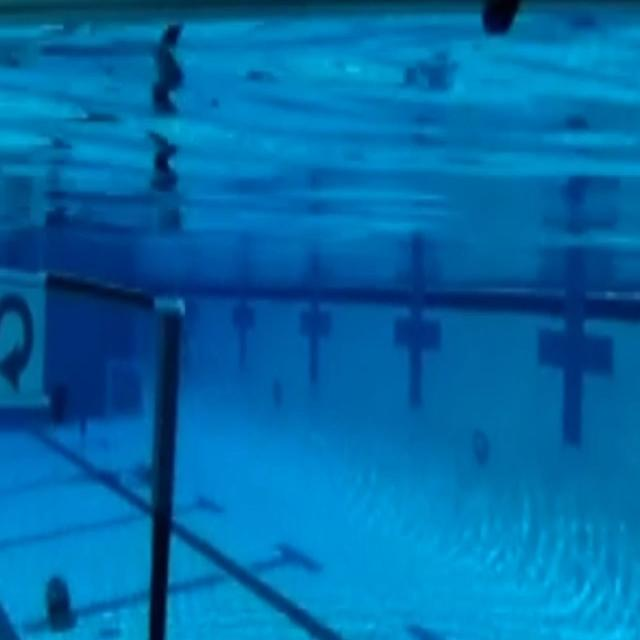Gate: (7, 272, 176, 628)
